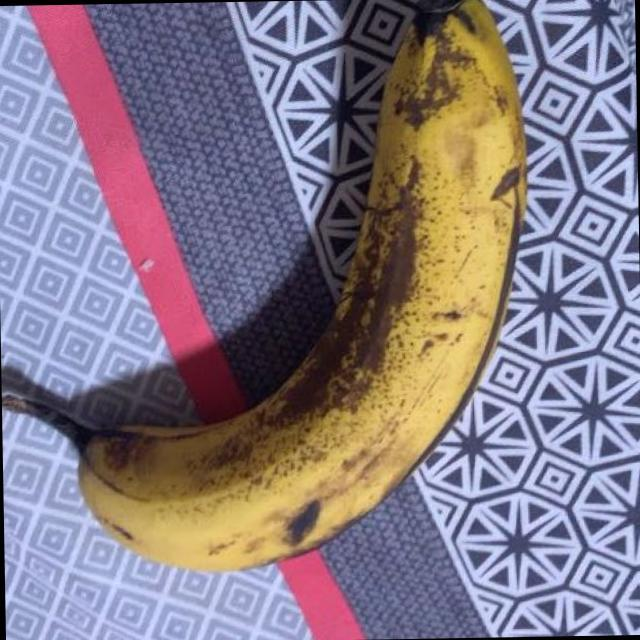Banana: (0, 0, 553, 591)
